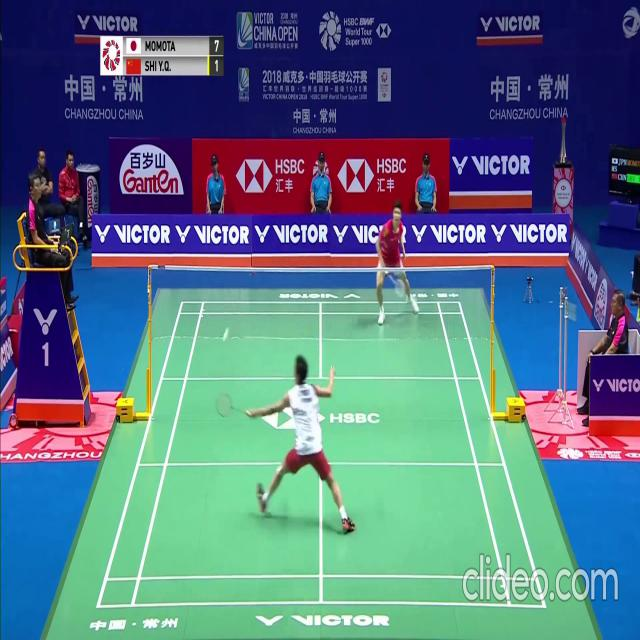Shuttlecock: (223, 331, 227, 339)
